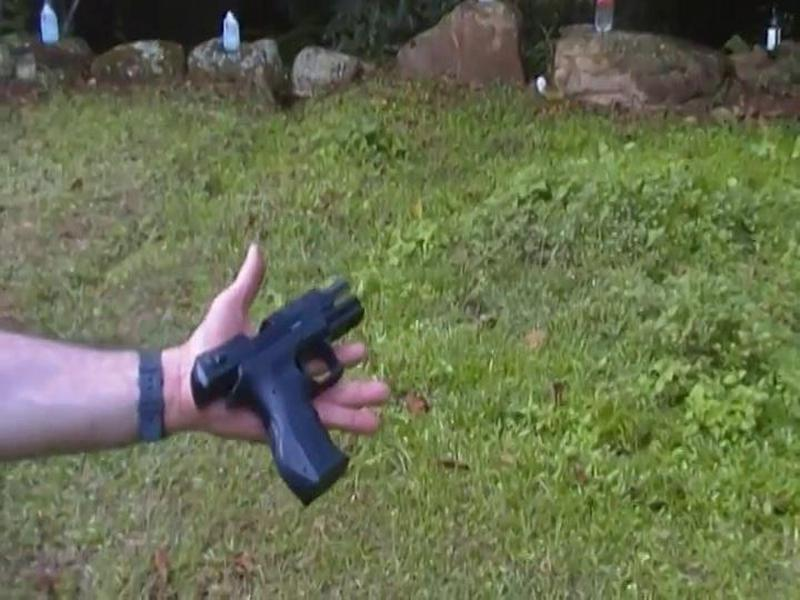Pistola: (178, 246, 394, 519)
